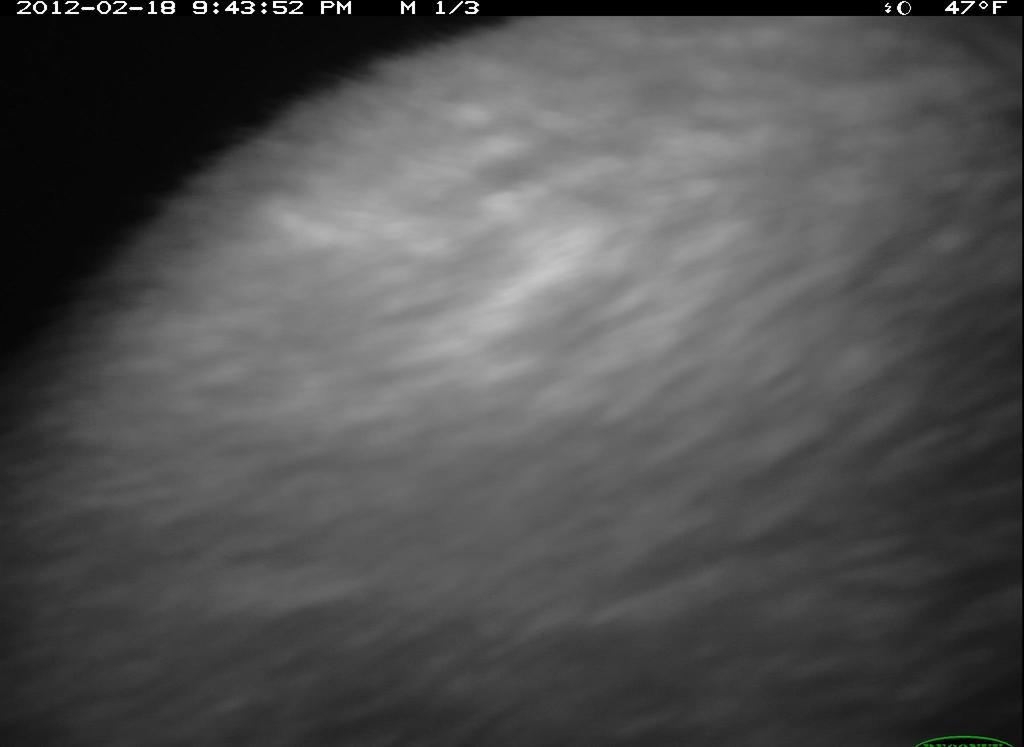raccoon: (12, 8, 1016, 744)
